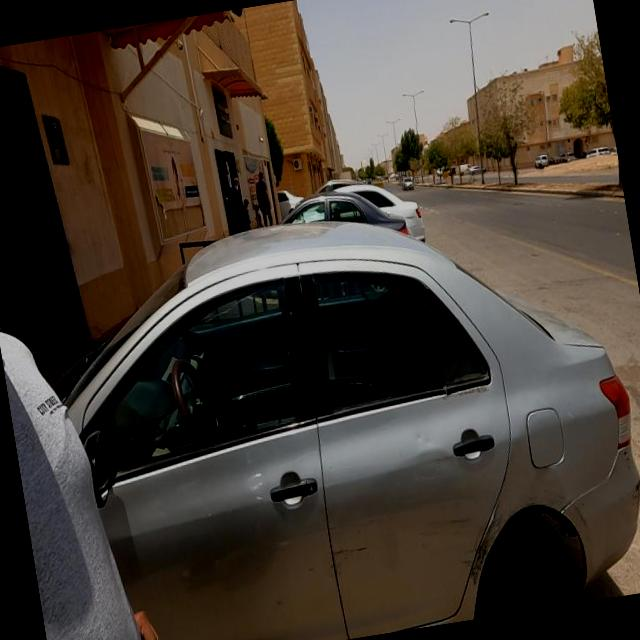debris: (78, 54, 258, 304)
